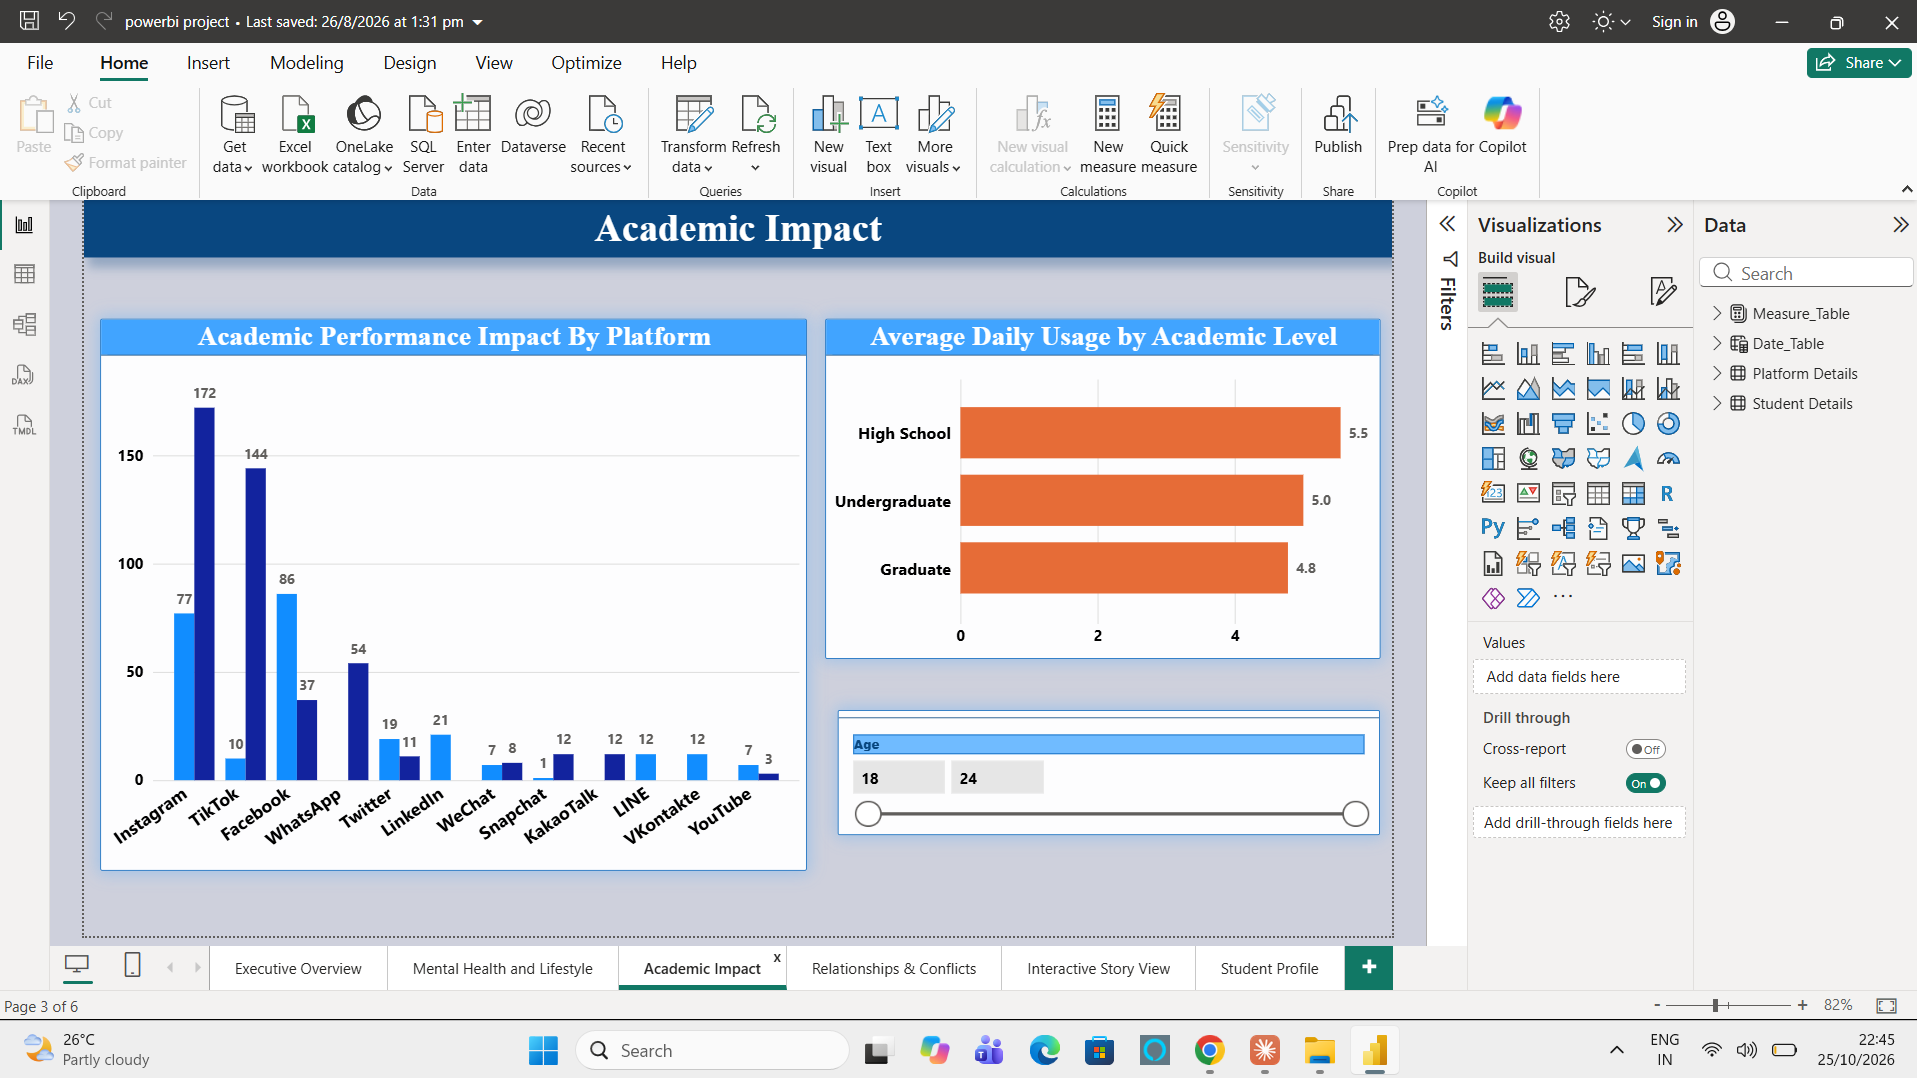

What the dashboard file says about the page in this screenshot:
{"tool":"powerbi","page":{"name":"Page 3","canvas":[1280,720],"ordinal":2},"visuals":[{"type":"clusteredBarChart","title":"Average Daily Usage by Academic Level","fields":{"Category":["Student Details.Academic_Level"],"Y":["Measure_Table.Avg Usage Hours"]},"box":[725,116.2,542.9,332.6],"z":0},{"type":"textbox","box":[0,0,1280,56.2],"z":1000},{"type":"clusteredColumnChart","title":"Academic Performance Impact By Platform","fields":{"Category":["Platform Details.Most_Used_Platform"],"Y":["CountNonNull(Platform Details.Student_ID)"],"Series":["Platform Details.Affects_Academic_Performance"]},"box":[16.2,116.2,691.2,540],"z":2000},{"type":"slicer","fields":{"Values":["Student Details.Age"]},"box":[737.5,498.8,530,122.5],"z":3000}]}

Visuals, with their boxes on the page's 1280x720 design canvas (x1, y1, x2, y2). These are canvas units, not pixel positions in the 1917x1078 screenshot, which may show the page scaled, cropped or inside an application window:
"Average Daily Usage by Academic Level" clusteredBarChart: crop(725, 116, 1268, 449)
textbox: crop(0, 0, 1280, 56)
"Academic Performance Impact By Platform" clusteredColumnChart: crop(16, 116, 707, 656)
slicer - Student Details.Age: crop(738, 499, 1268, 621)
